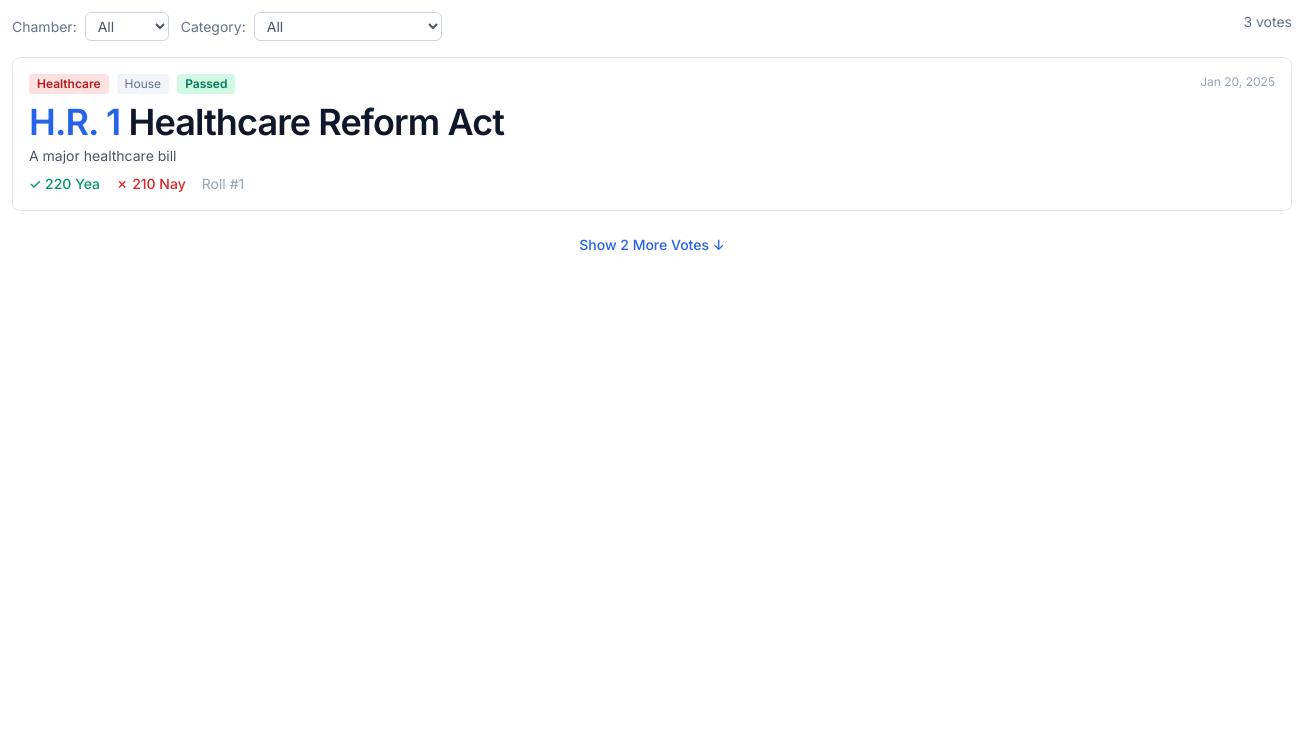
Test: KeyVotes › expands on show more click
Click the button "Show 2 More Votes ↓" at {"x": 652, "y": 245}, box x1=12 y1=227 x2=1292 y2=263
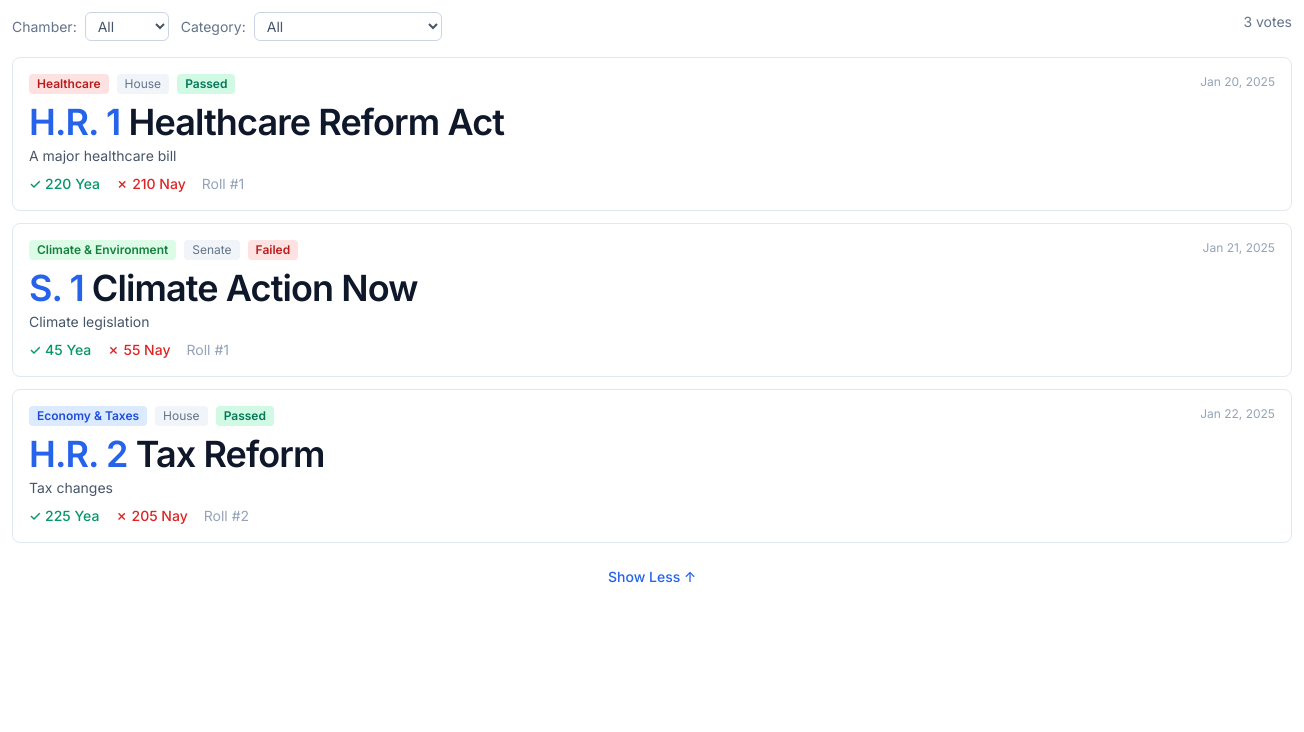
Check: the text "H.R. 2" is shown, box x1=29 y1=432 x2=128 y2=476
